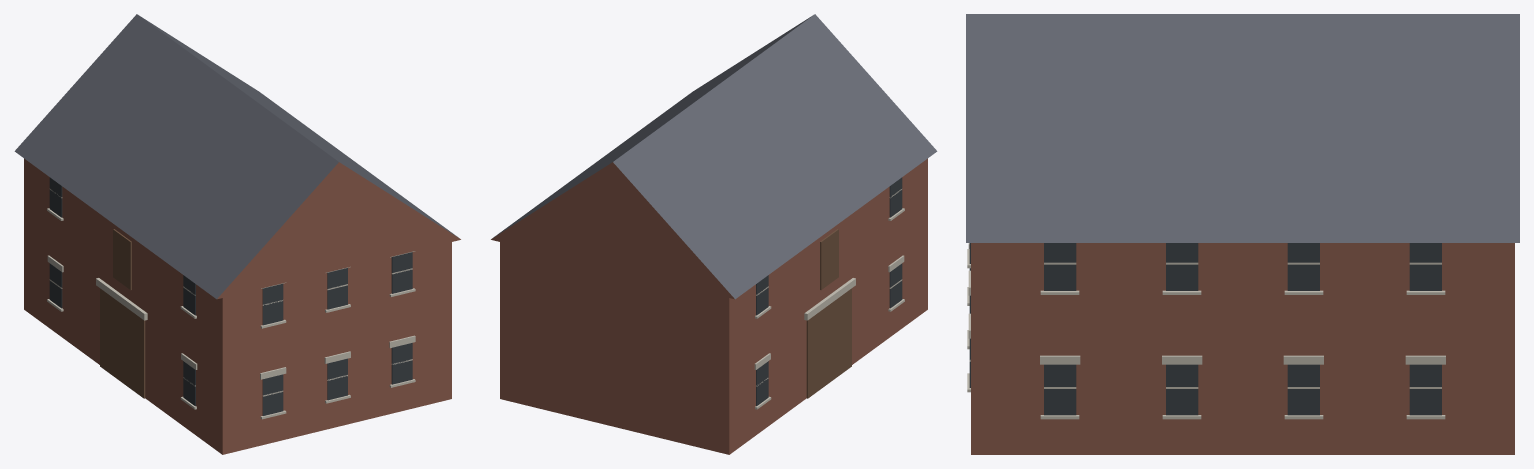
The model's file is house_2017_prairie_coach_house__draft_1904.glb.
The picture shows the model from 3 angles, left to right: view 1: azimuth 30°, elevation 25°; view 2: azimuth 150°, elevation 25°; view 3: azimuth 270°, elevation 25°; orthographic projection. The views are drawn at different scales.
Parts seen in each view (by area): view 1: house_2017_prairie_coach_house__draft_1904; view 2: house_2017_prairie_coach_house__draft_1904; view 3: house_2017_prairie_coach_house__draft_1904.
Boxes of the visible parts, x1,y1,x2,y2 form: house_2017_prairie_coach_house__draft_1904: [14, 14, 460, 454]; house_2017_prairie_coach_house__draft_1904: [491, 14, 937, 454]; house_2017_prairie_coach_house__draft_1904: [966, 14, 1519, 454].
Bounding box in the file's own units: 9.6 × 9.98 × 13.74.
